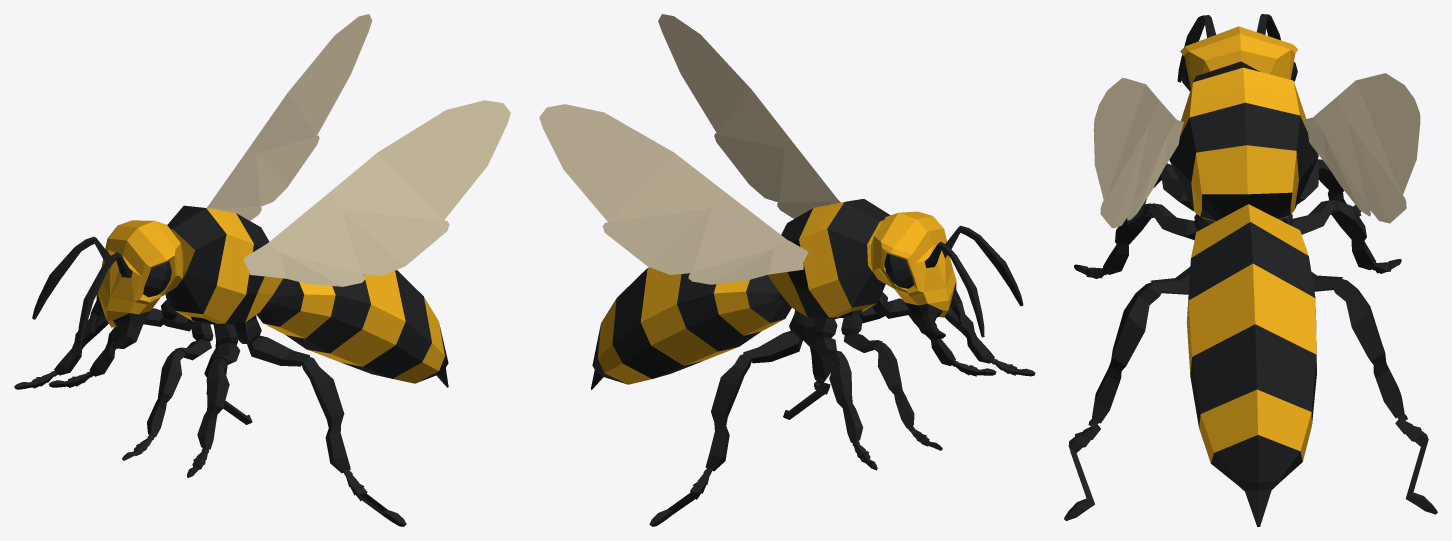
File: Bee_Low_Poly.glb
The picture shows the model from 3 angles, left to right: view 1: azimuth 30°, elevation 25°; view 2: azimuth 150°, elevation 25°; view 3: azimuth 270°, elevation 25°; orthographic projection. The views are drawn at different scales.
Visible parts, largest first — view 1: beehive.006_Atlas_0, beehive.006_Atlas Alpha_0, beehive.006_Atlas Shiny_0; view 2: beehive.006_Atlas_0, beehive.006_Atlas Alpha_0, beehive.006_Atlas Shiny_0; view 3: beehive.006_Atlas_0, beehive.006_Atlas Alpha_0.
Part boxes in pixels (x1,y1,x2,y2): beehive.006_Atlas_0: (14,205,448,526); beehive.006_Atlas Alpha_0: (206,14,510,286); beehive.006_Atlas Shiny_0: (143,261,171,297); beehive.006_Atlas_0: (591,199,1035,526); beehive.006_Atlas Alpha_0: (539,14,840,284); beehive.006_Atlas Shiny_0: (884,253,914,288); beehive.006_Atlas_0: (1064,14,1437,526); beehive.006_Atlas Alpha_0: (1093,73,1420,228).
Bounding box in the file's own units: 6.26 × 5.77 × 3.98.
3 materials, 3 textured.
